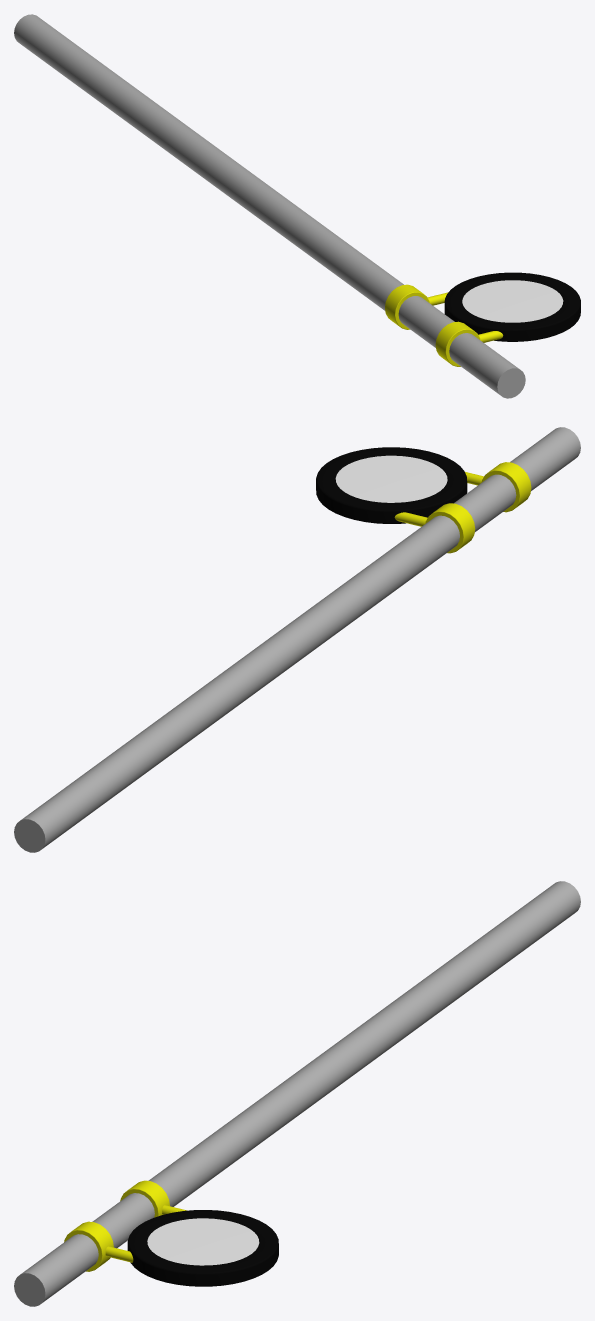
Rendered from Level3.fbx.
The picture shows the model from 3 angles, top to bottom: view 1: azimuth 30°, elevation 25°; view 2: azimuth 150°, elevation 25°; view 3: azimuth 330°, elevation 25°; orthographic projection. The views are drawn at different scales.
Parts seen in each view (by area): view 1: pCylinder1, pCylinder6, pCylinder2, pCylinder3; view 2: pCylinder1, pCylinder6, pCylinder3, pCylinder2; view 3: pCylinder1, pCylinder6, pCylinder2, pCylinder3.
Boxes of the visible parts, x1,y1,x2,y2 form: pCylinder1: (14,14,525,398); pCylinder6: (444,272,580,341); pCylinder2: (435,321,480,366); pCylinder3: (385,284,429,329); pCylinder1: (14,427,580,852); pCylinder6: (316,447,467,523); pCylinder3: (425,503,475,553); pCylinder2: (481,462,531,512); pCylinder1: (14,881,580,1306); pCylinder6: (127,1210,278,1286); pCylinder2: (64,1221,113,1271); pCylinder3: (120,1180,169,1217).
Bounding box in the file's own units: 4.06 × 0.9262 × 21.8.
